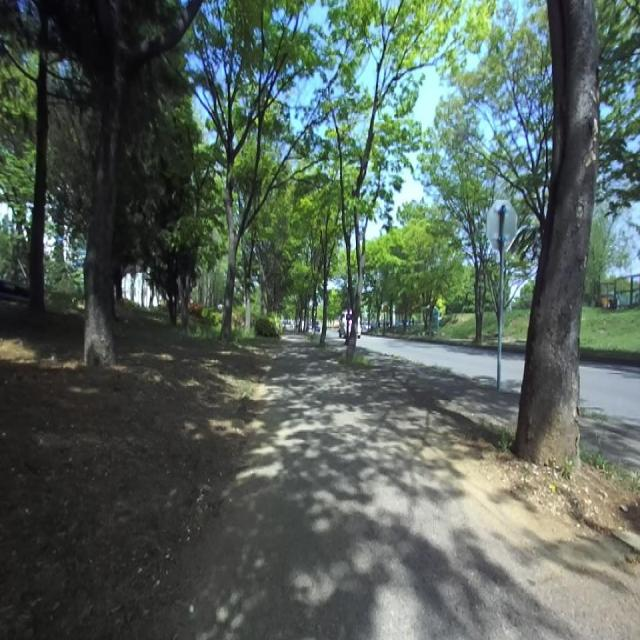sidewalk: (175, 339, 638, 640)
